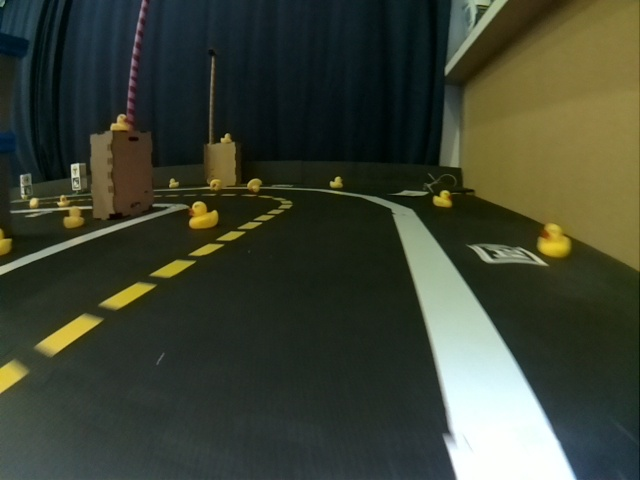Duckie: (539, 225, 571, 256), (189, 201, 215, 227), (64, 208, 82, 228), (434, 192, 451, 207), (111, 115, 126, 130), (247, 178, 261, 193), (330, 176, 343, 188), (209, 180, 222, 190), (221, 133, 231, 143), (58, 196, 68, 206), (169, 178, 176, 188), (29, 199, 39, 206)
Intersection sign: (71, 164, 80, 177)
QR code: (477, 245, 544, 264), (71, 177, 81, 190)
